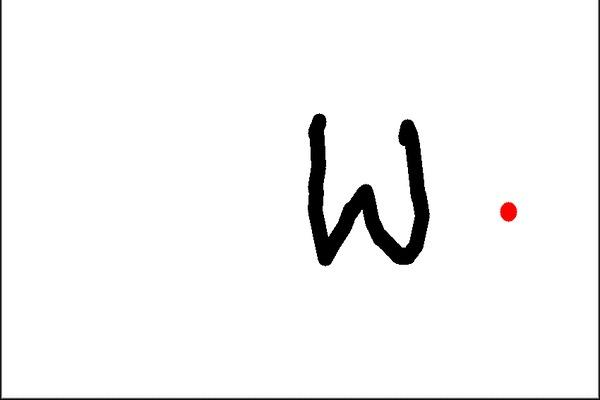w: (284, 89, 441, 273)
